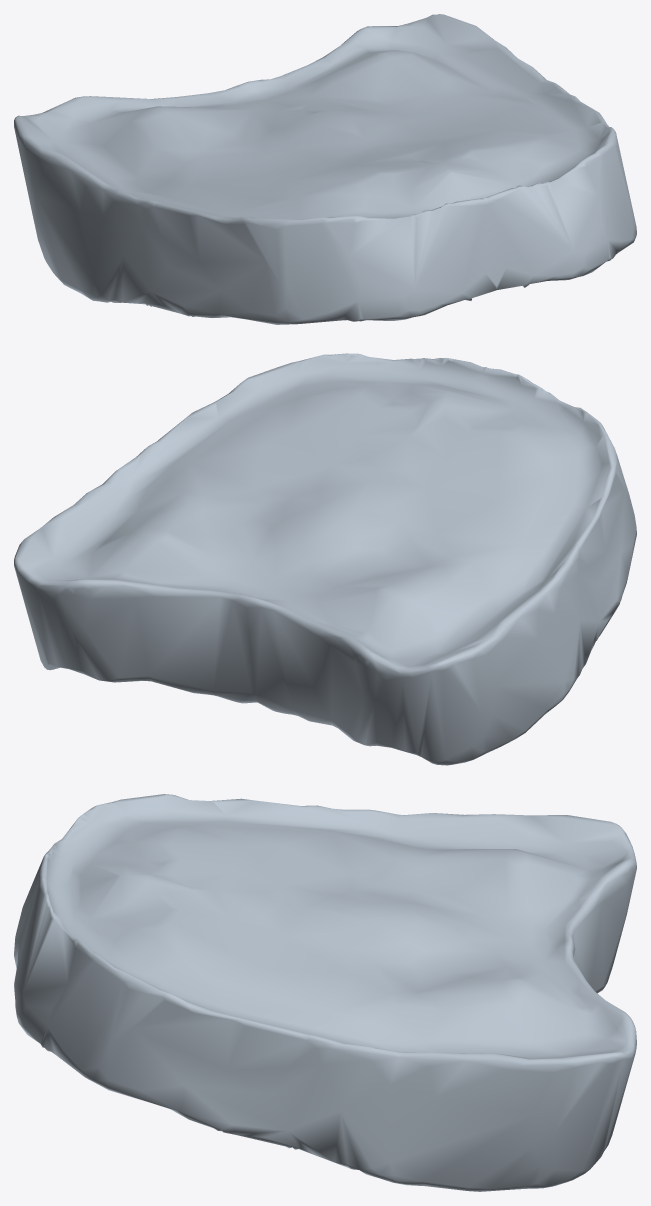
The model's file is intervertebral-disc-t7-t8.glb.
3 renders of one model, top to bottom at view 1: azimuth 30°, elevation 25°; view 2: azimuth 150°, elevation 25°; view 3: azimuth 270°, elevation 25°, orthographic. The views are drawn at different scales.
Visible parts, largest first — view 1: Intervertebral disc T7-T8; view 2: Intervertebral disc T7-T8; view 3: Intervertebral disc T7-T8.
Boxes of the visible parts, left/top/right/bottom form: Intervertebral disc T7-T8: left=14, top=14, right=636, bottom=324; Intervertebral disc T7-T8: left=14, top=353, right=636, bottom=765; Intervertebral disc T7-T8: left=14, top=794, right=636, bottom=1191.
Size of the model in its own units: 0.0358 by 0.013 by 0.0367.
